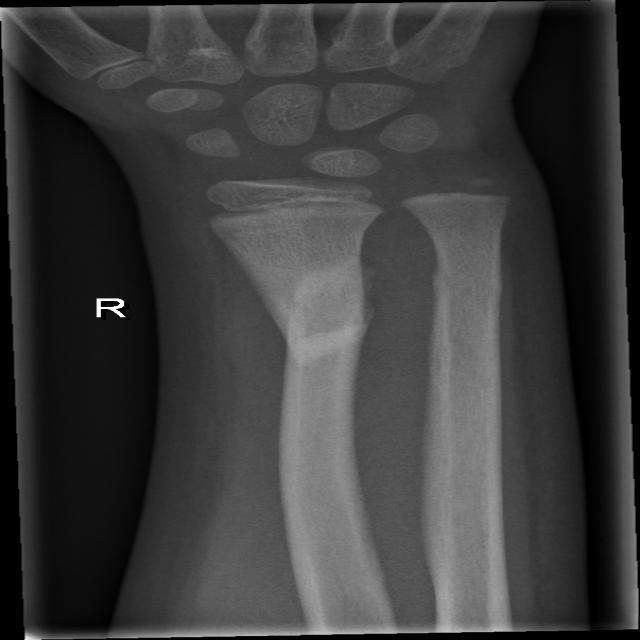radius fracture: (249, 257, 410, 423)
